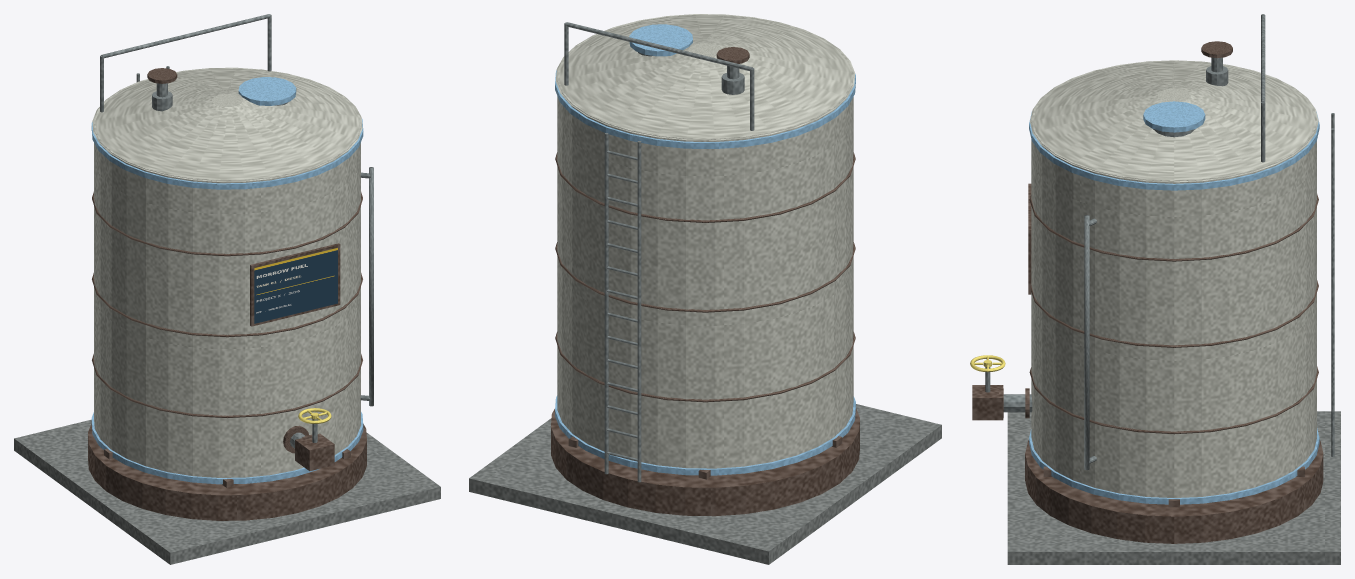
Rendered from PZ_Diesel_Tank01_3p6m.glb.
3 renders of one model, left to right at view 1: azimuth 30°, elevation 25°; view 2: azimuth 150°, elevation 25°; view 3: azimuth 270°, elevation 25°, orthographic. The views are drawn at different scales.
Visible parts, largest first — view 1: Tank_Vertical_Shell_D3p6m_H4p5m, Tank_Conical_Weather_Roof, Tank_Anchor_Platform, Tank_Foundation_Ring, Tank_Identification_Plate_Graphic, Tank_Upper_Collar, Tank_Lower_Collar, Roof_Hatch_Cover, Level_Indicator_External, Outlet_Valve_Body, Tank_Identification_Plate_Back, Circumferential_Weld_Seam_1 (+3 smaller); view 2: Tank_Vertical_Shell_D3p6m_H4p5m, Tank_Conical_Weather_Roof, Tank_Anchor_Platform, Tank_Foundation_Ring, Tank_Upper_Collar, Tank_Lower_Collar, Ladder_Stile_L, Ladder_Stile_R, Roof_Hatch_Cover, Circumferential_Weld_Seam_2, Circumferential_Weld_Seam_1, Circumferential_Weld_Seam_3 (+1 smaller); view 3: Tank_Vertical_Shell_D3p6m_H4p5m, Tank_Conical_Weather_Roof, Tank_Anchor_Platform, Tank_Foundation_Ring, Tank_Upper_Collar, Tank_Lower_Collar, Roof_Hatch_Cover, Level_Indicator_External, Ladder_Stile_R, Outlet_Valve_Body, Circumferential_Weld_Seam_1, Circumferential_Weld_Seam_3 (+2 smaller).
Part boxes in pixels (x1=…): Tank_Vertical_Shell_D3p6m_H4p5m: x1=94, y1=67, x2=360, y2=477; Tank_Conical_Weather_Roof: x1=92, y1=68, x2=362, y2=181; Tank_Anchor_Platform: x1=14, y1=419, x2=440, y2=564; Tank_Foundation_Ring: x1=88, y1=423, x2=366, y2=520; Tank_Identification_Plate_Graphic: x1=254, y1=247, x2=337, y2=323; Tank_Upper_Collar: x1=91, y1=119, x2=363, y2=189; Tank_Lower_Collar: x1=91, y1=412, x2=363, y2=484; Roof_Hatch_Cover: x1=238, y1=77, x2=296, y2=105; Level_Indicator_External: x1=369, y1=167, x2=373, y2=406; Outlet_Valve_Body: x1=295, y1=433, x2=334, y2=471; Tank_Identification_Plate_Back: x1=250, y1=243, x2=340, y2=326; Circumferential_Weld_Seam_1: x1=92, y1=354, x2=362, y2=417; Tank_Vertical_Shell_D3p6m_H4p5m: x1=557, y1=14, x2=853, y2=468; Tank_Conical_Weather_Roof: x1=555, y1=15, x2=855, y2=140; Tank_Anchor_Platform: x1=469, y1=404, x2=941, y2=564; Tank_Foundation_Ring: x1=551, y1=408, x2=859, y2=516; Tank_Upper_Collar: x1=555, y1=70, x2=855, y2=148; Tank_Lower_Collar: x1=555, y1=395, x2=855, y2=475; Ladder_Stile_L: x1=637, y1=141, x2=641, y2=482; Ladder_Stile_R: x1=604, y1=133, x2=608, y2=474; Roof_Hatch_Cover: x1=629, y1=24, x2=692, y2=56; Circumferential_Weld_Seam_2: x1=555, y1=242, x2=855, y2=312; Circumferential_Weld_Seam_1: x1=555, y1=332, x2=855, y2=402; Circumferential_Weld_Seam_3: x1=555, y1=152, x2=855, y2=222; Tank_Vertical_Shell_D3p6m_H4p5m: x1=1031, y1=60, x2=1316, y2=497; Tank_Conical_Weather_Roof: x1=1030, y1=61, x2=1318, y2=182; Tank_Anchor_Platform: x1=1007, y1=411, x2=1340, y2=564; Tank_Foundation_Ring: x1=1025, y1=440, x2=1323, y2=543; Tank_Upper_Collar: x1=1029, y1=111, x2=1319, y2=190; Tank_Lower_Collar: x1=1029, y1=428, x2=1319, y2=504; Roof_Hatch_Cover: x1=1143, y1=101, x2=1205, y2=132; Level_Indicator_External: x1=1084, y1=215, x2=1089, y2=470; Ladder_Stile_R: x1=1331, y1=128, x2=1334, y2=456; Outlet_Valve_Body: x1=972, y1=385, x2=1003, y2=420; Circumferential_Weld_Seam_1: x1=1029, y1=366, x2=1318, y2=434; Circumferential_Weld_Seam_3: x1=1029, y1=194, x2=1318, y2=261.
Size of the model in its own units: 4.2 by 6.08 by 4.67.
Materials: 7 (7 with a texture image).
